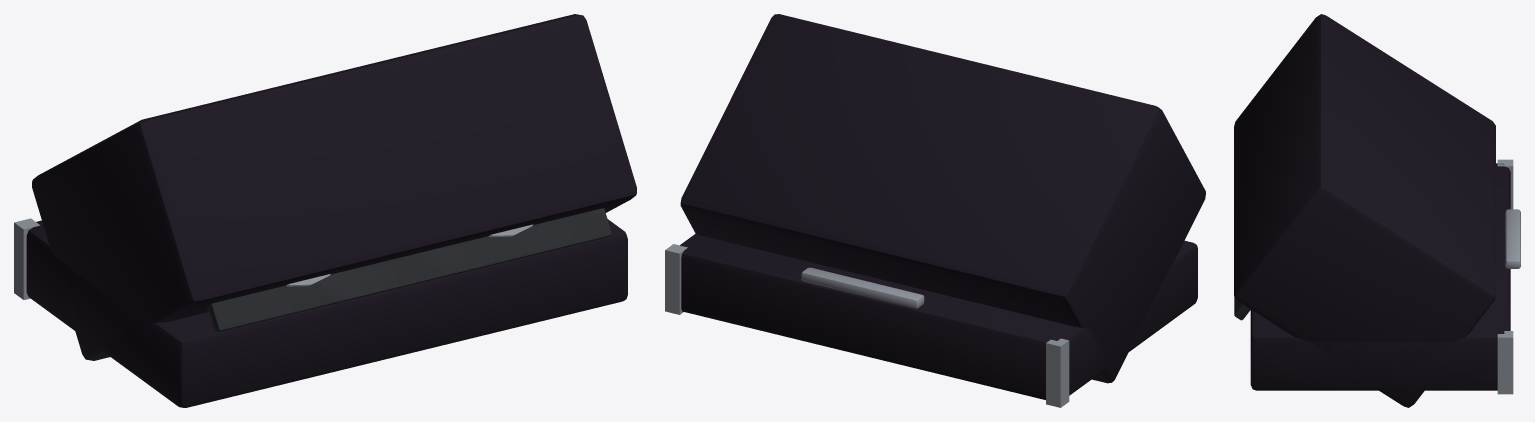
The model's file is caixa-de-retorno.glb.
3 views of the same model, side by side, from view 1: azimuth 30°, elevation 25°; view 2: azimuth 150°, elevation 25°; view 3: azimuth 270°, elevation 25° (orthographic). The views are drawn at different scales.
Parts seen in each view (by area): view 1: cunha, base, tela, cantoneira; view 2: cunha, base, alca, cantoneira, cantoneira.001; view 3: cunha, base, cantoneira.001, alca, cantoneira.
Boxes of the visible parts, left/top/right/bottom form: cunha: left=32, top=14, right=636, bottom=360; base: left=26, top=219, right=627, bottom=407; tela: left=207, top=208, right=611, bottom=332; cantoneira: left=14, top=218, right=40, bottom=299; cunha: left=680, top=14, right=1205, bottom=383; base: left=680, top=234, right=1197, bottom=399; alca: left=801, top=267, right=924, bottom=308; cantoneira: left=1046, top=338, right=1069, bottom=407; cantoneira.001: left=665, top=244, right=687, bottom=314; cunha: left=1234, top=14, right=1495, bottom=407; base: left=1250, top=163, right=1510, bottom=390; cantoneira.001: left=1497, top=331, right=1513, bottom=394; alca: left=1505, top=209, right=1520, bottom=268; cantoneira: left=1497, top=159, right=1513, bottom=209.
Size of the model in its own units: 0.81 by 0.4744 by 0.5519.
3 materials, 1 textured.
